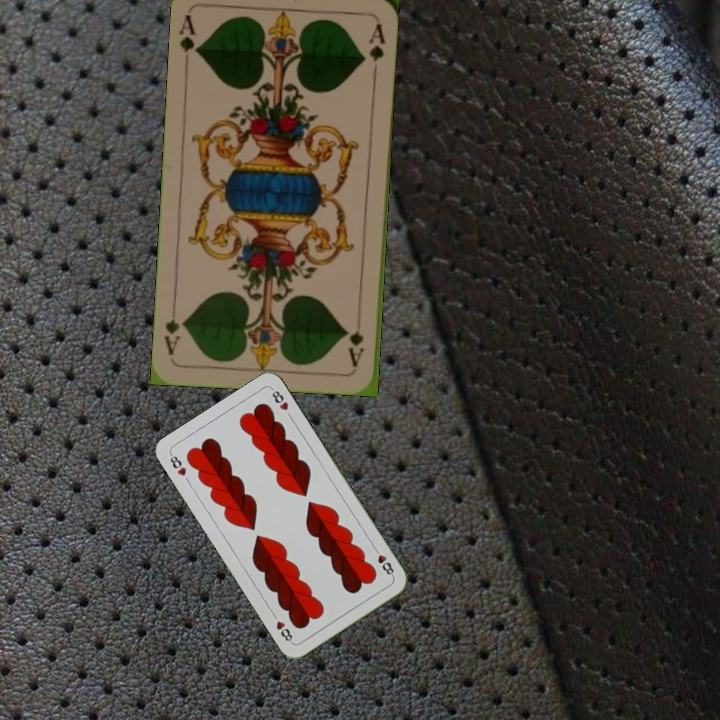GA: (345, 310, 367, 369), (175, 10, 202, 58)
H8: (370, 543, 397, 580), (166, 450, 193, 486)
